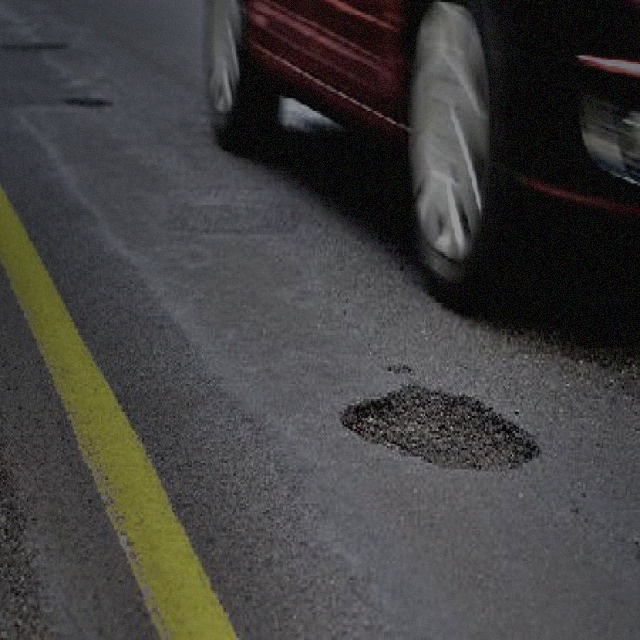pothole: (337, 380, 541, 469), (60, 90, 112, 108), (383, 358, 411, 376)
